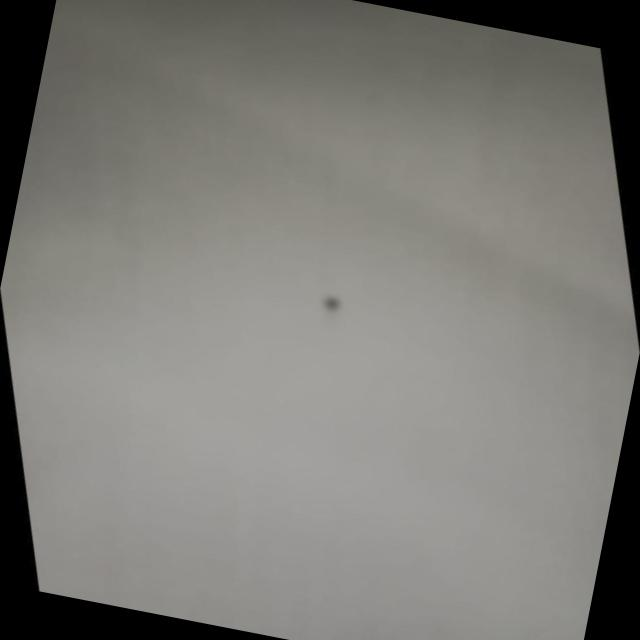stain: (294, 274, 370, 334)
